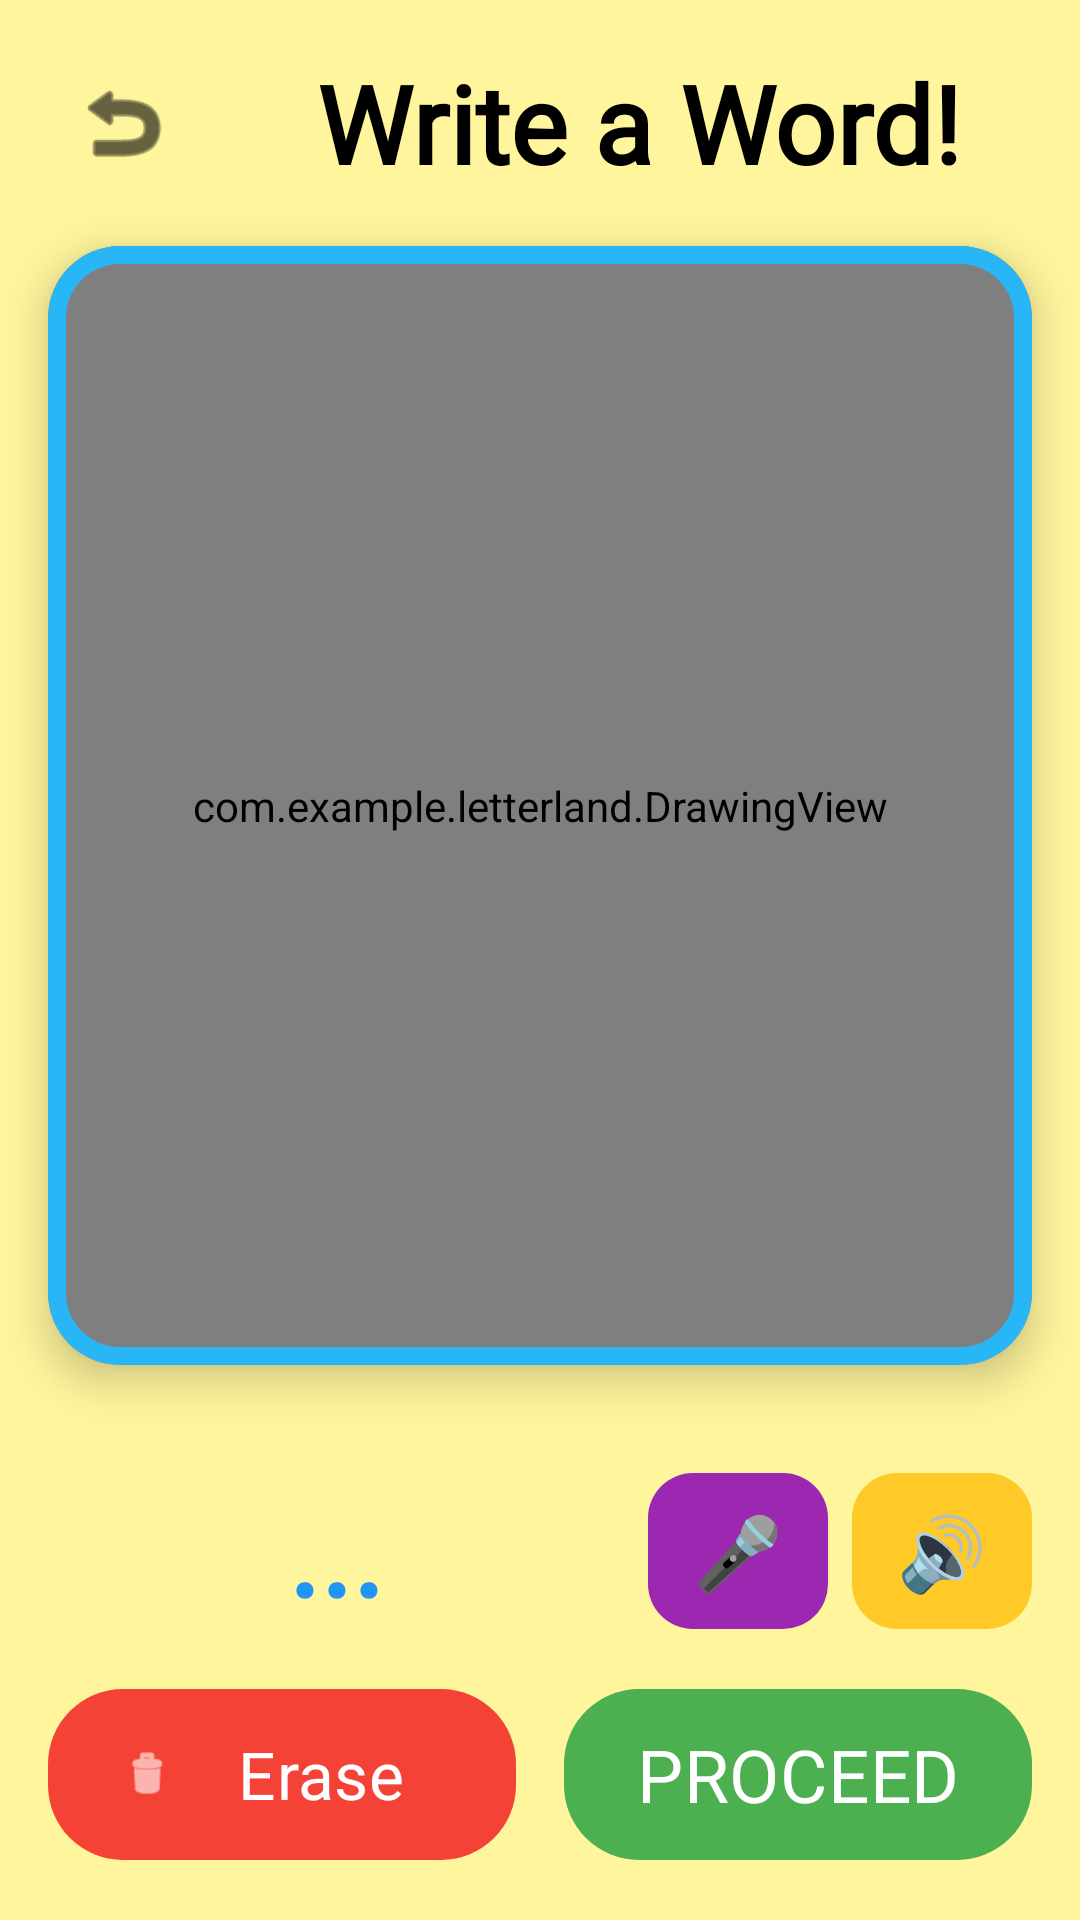

Icon click points for this 1080 x 1920 phone screenshot, format [x,y]:
revert: [124,123]
